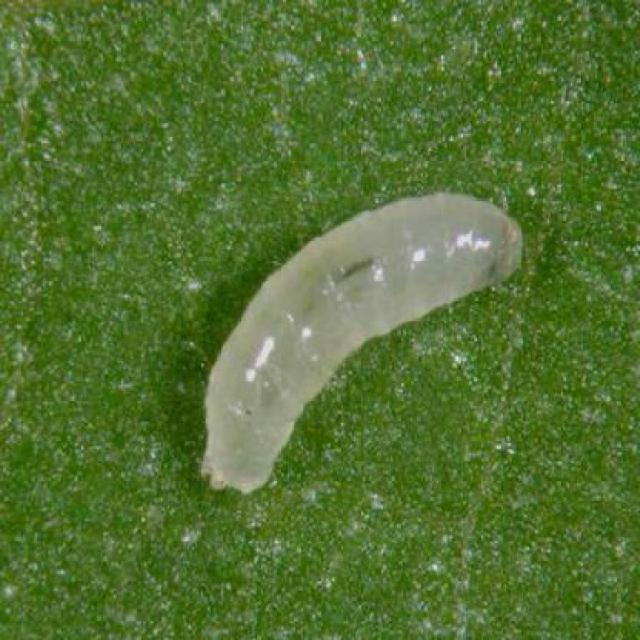whorl-maggot: (196, 183, 530, 499)
